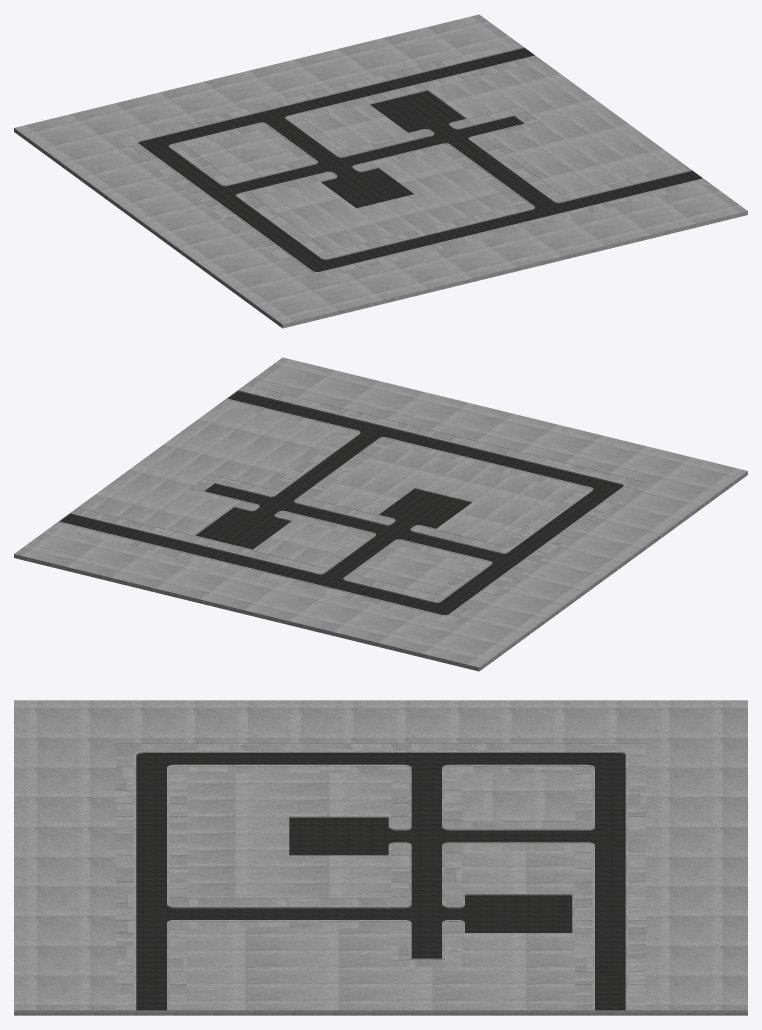
Rendered from floor.fbx.
3 views of the same model, one above another, from view 1: azimuth 30°, elevation 25°; view 2: azimuth 150°, elevation 25°; view 3: azimuth 270°, elevation 25° (orthographic). The views are drawn at different scales.
Visible parts, largest first — view 1: Cube; view 2: Cube; view 3: Cube.
Part boxes in pixels (box(x1,y1,x2,y2)): Cube: box(14, 14, 747, 328); Cube: box(14, 357, 747, 671); Cube: box(14, 700, 747, 1015).
Size of the model in its own units: 2831 by 23.03 by 2831.
2 materials, 2 textured.
